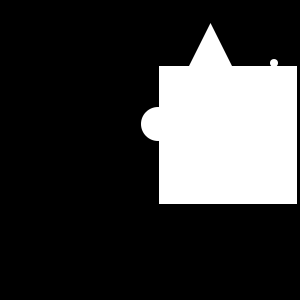circle: (159, 66, 297, 204)
rectangle: (141, 107, 175, 141), (270, 59, 278, 67)
triangle: (161, 23, 260, 122)
